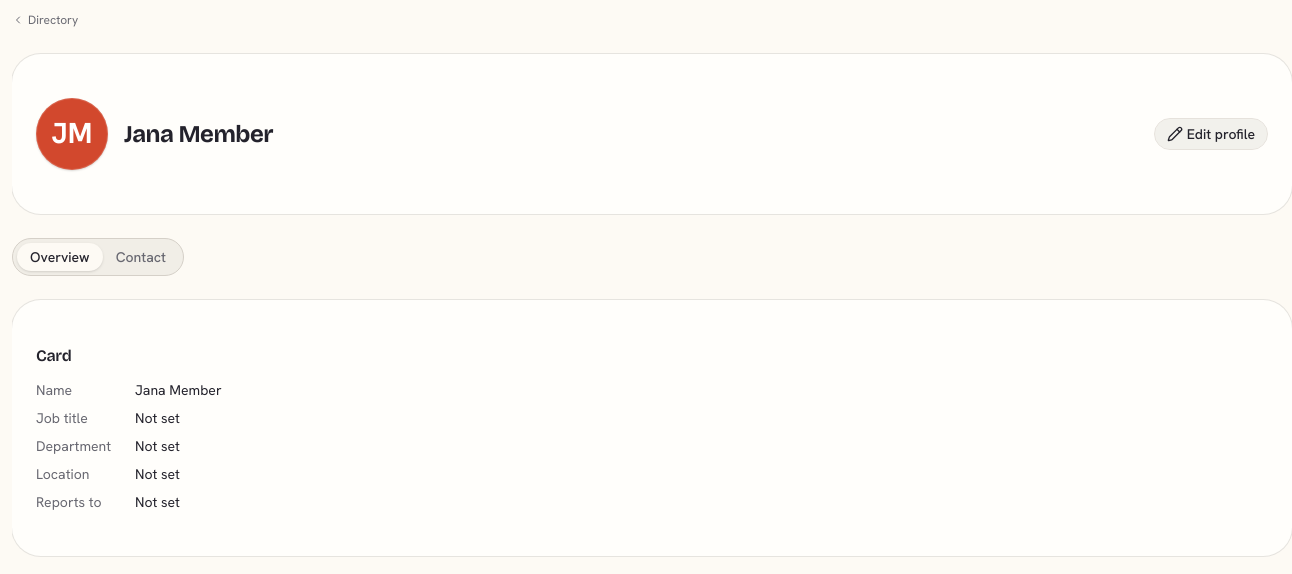
Test: ProfileScreen › the Sensitive sections › opens the person's own Contact without a Show button or the read-log line
Click the tab "Contact": [141, 257] box [103, 243, 179, 271]
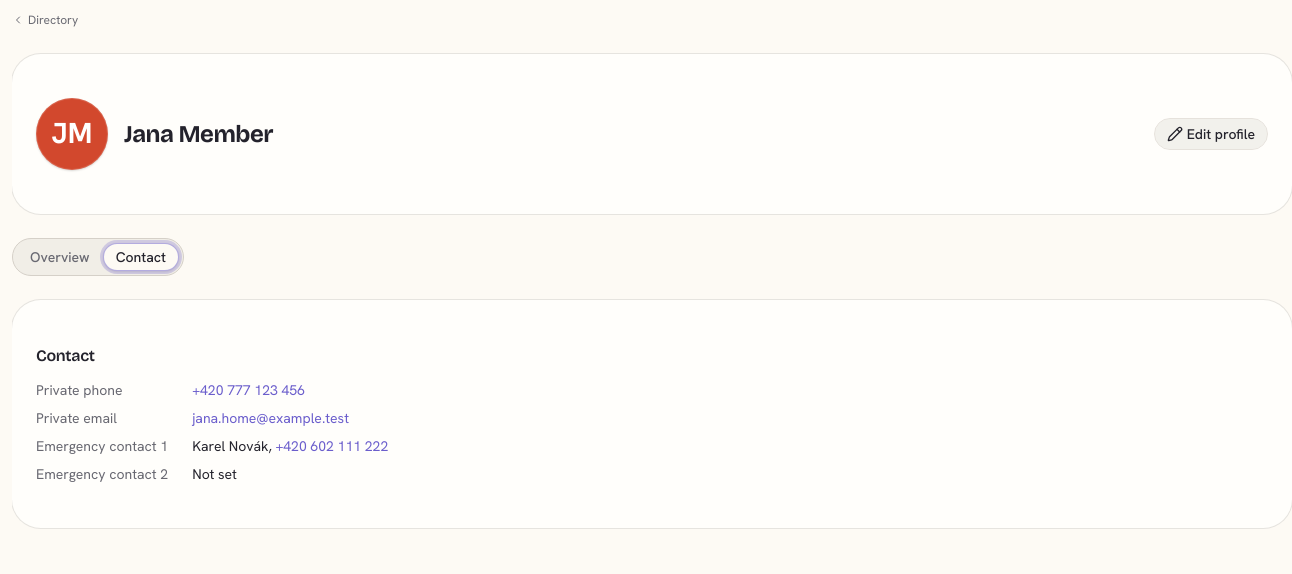
Check: the link "jana.home@example.test" is shown, box [192, 409, 349, 427]
